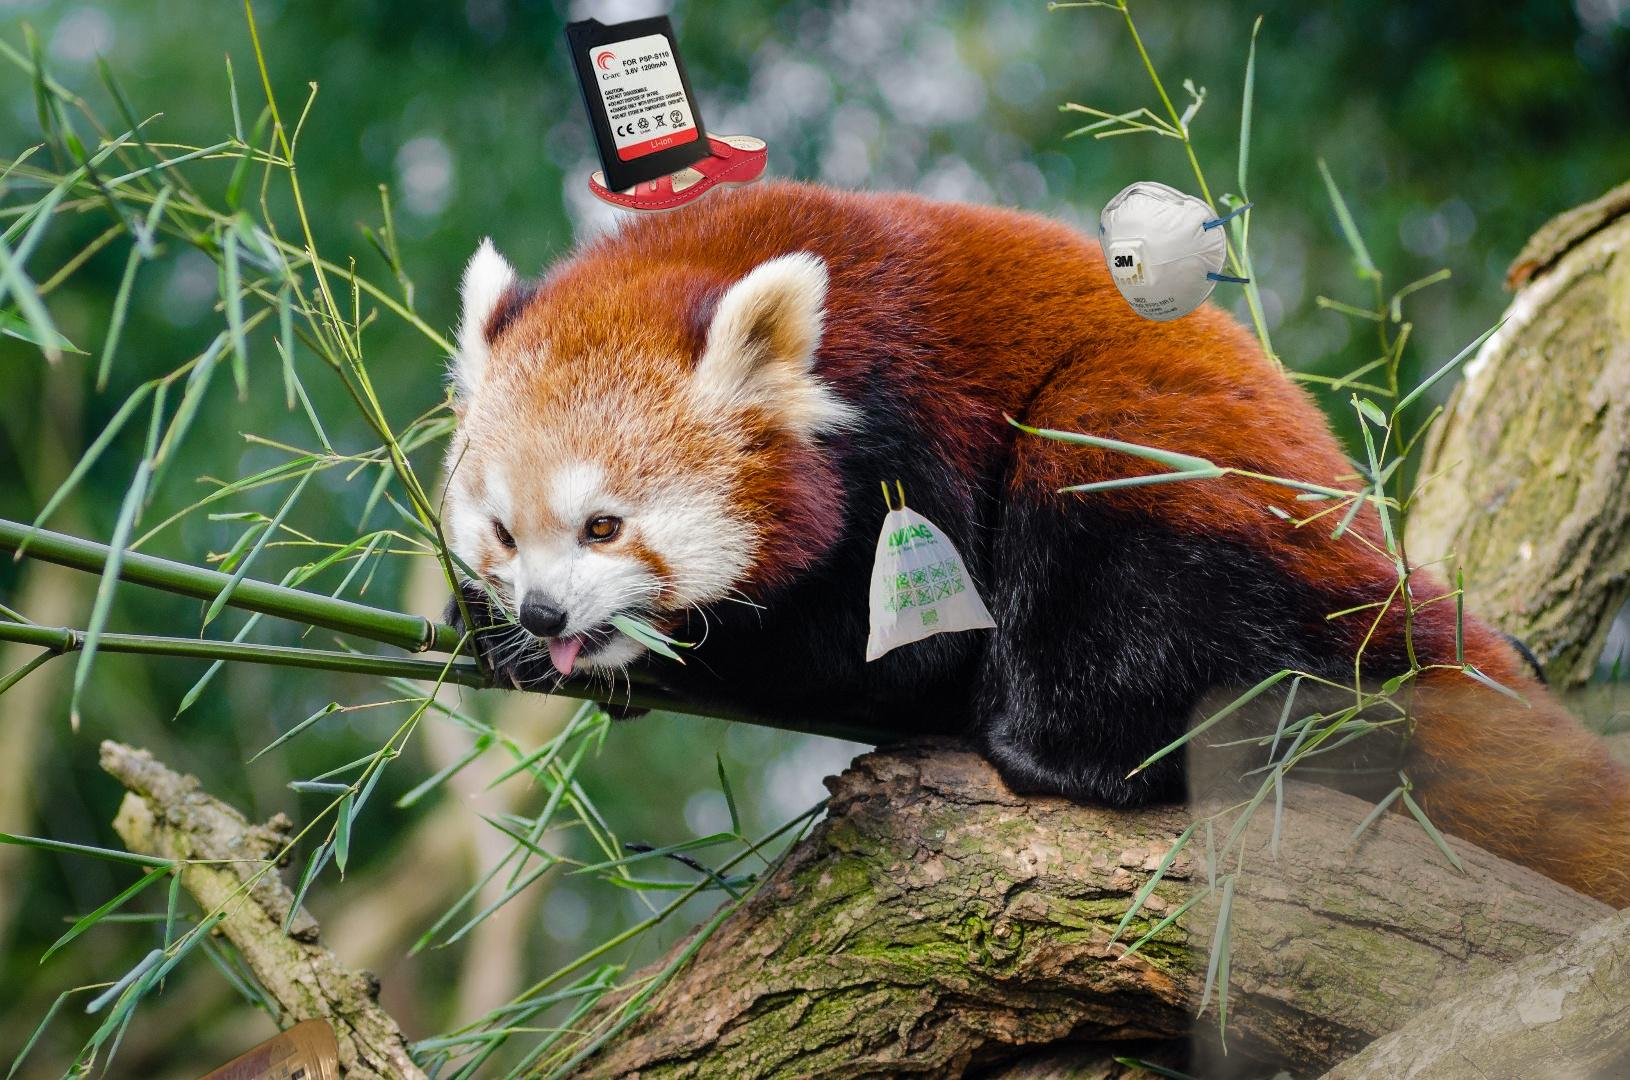battery: (537, 12, 717, 213)
plastic-bag: (865, 475, 999, 665)
plastic-bottles: (30, 1014, 339, 1080)
shoes: (585, 119, 771, 216)
trash: (1096, 178, 1257, 325)
trashbox-cardboard: (1159, 656, 1630, 1080)
